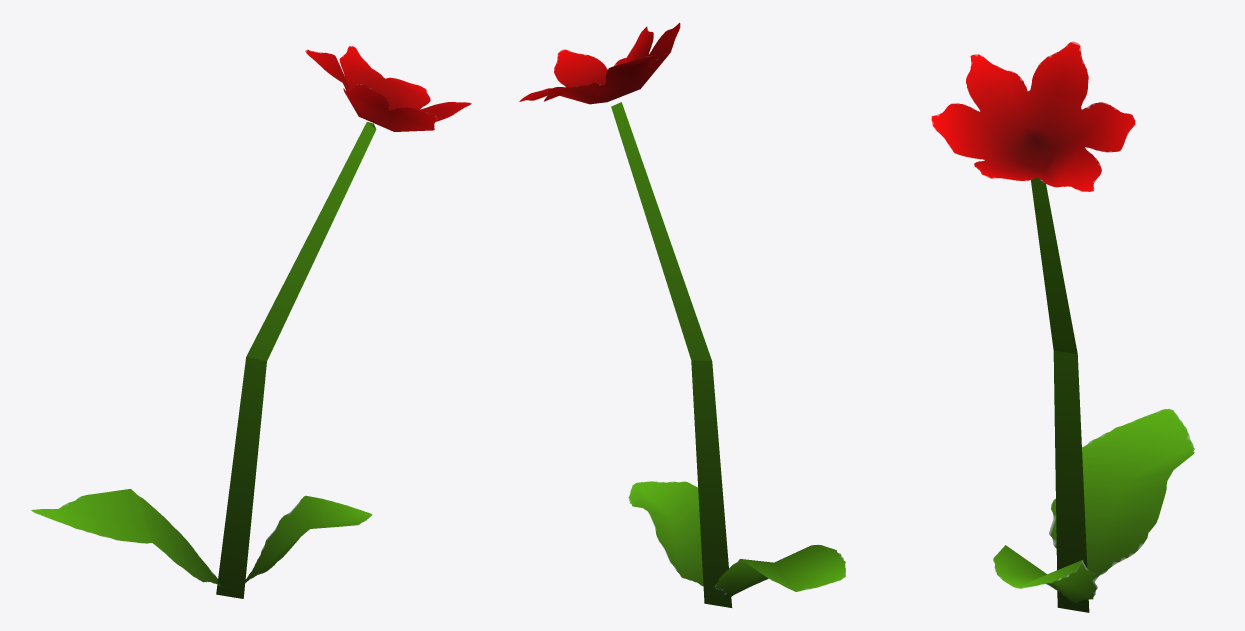
The model's file is Flower_1.fbx.
3 renders of one model, left to right at view 1: azimuth 30°, elevation 25°; view 2: azimuth 150°, elevation 25°; view 3: azimuth 270°, elevation 25°, orthographic. The views are drawn at different scales.
Parts seen in each view (by area): view 1: Flower 1; view 2: Flower 1; view 3: Flower 1.
Boxes of the visible parts, box(x1,y1,x2,y2) form: Flower 1: box(31, 46, 471, 598); Flower 1: box(519, 22, 845, 607); Flower 1: box(931, 41, 1194, 612).
Size of the model in its own units: 64.71 by 87.42 by 41.69.
